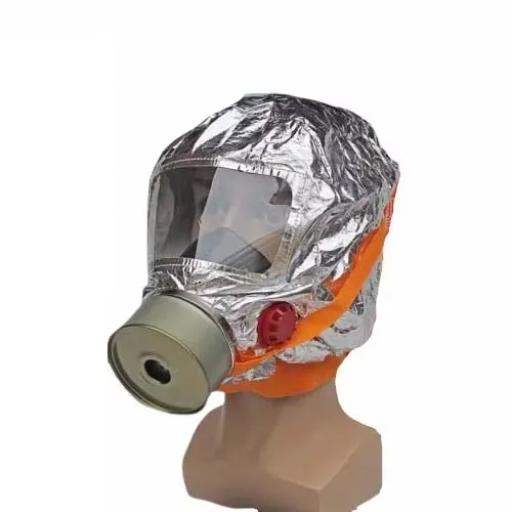mask: (79, 289, 270, 428)
